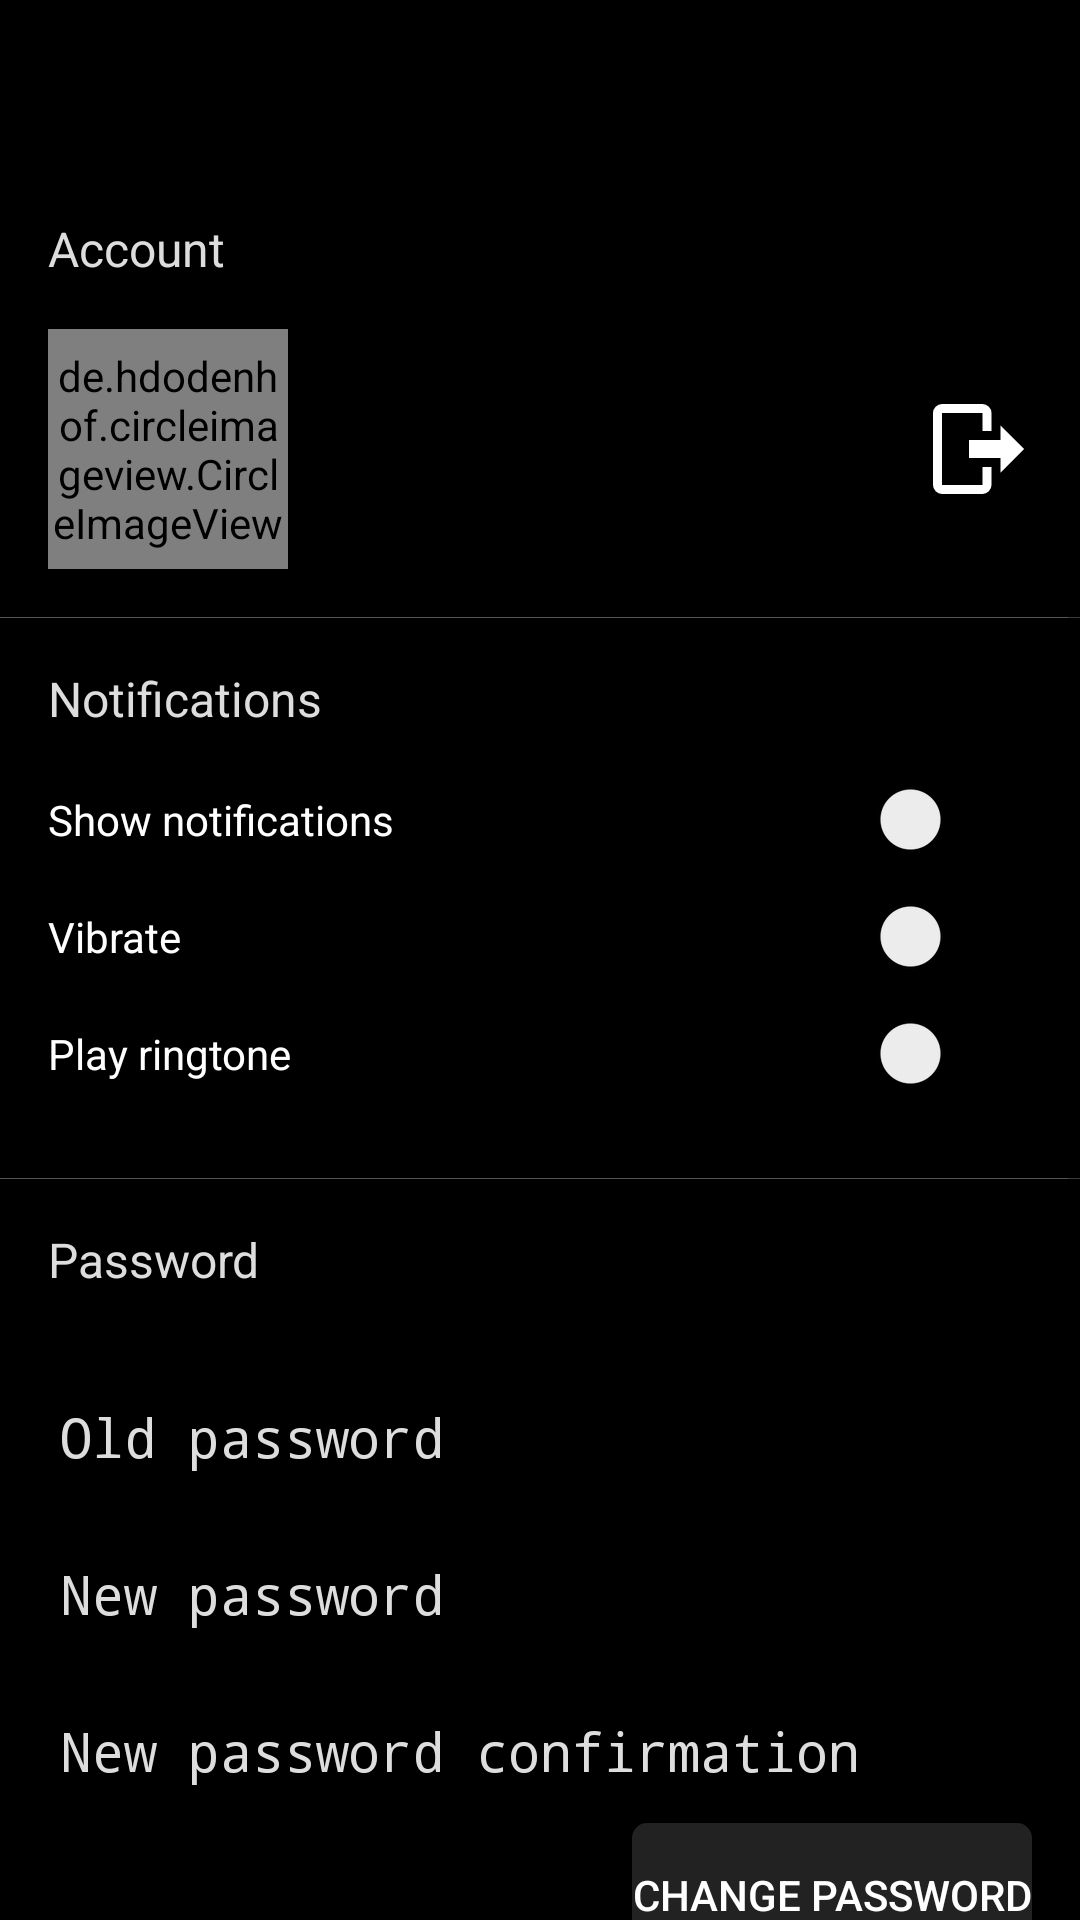

Icon bounding boxes for this 1080x1920 phone screenshot, format BBox(x1, y1, x2, y2):
log out: BBox(933, 404, 1024, 494)
